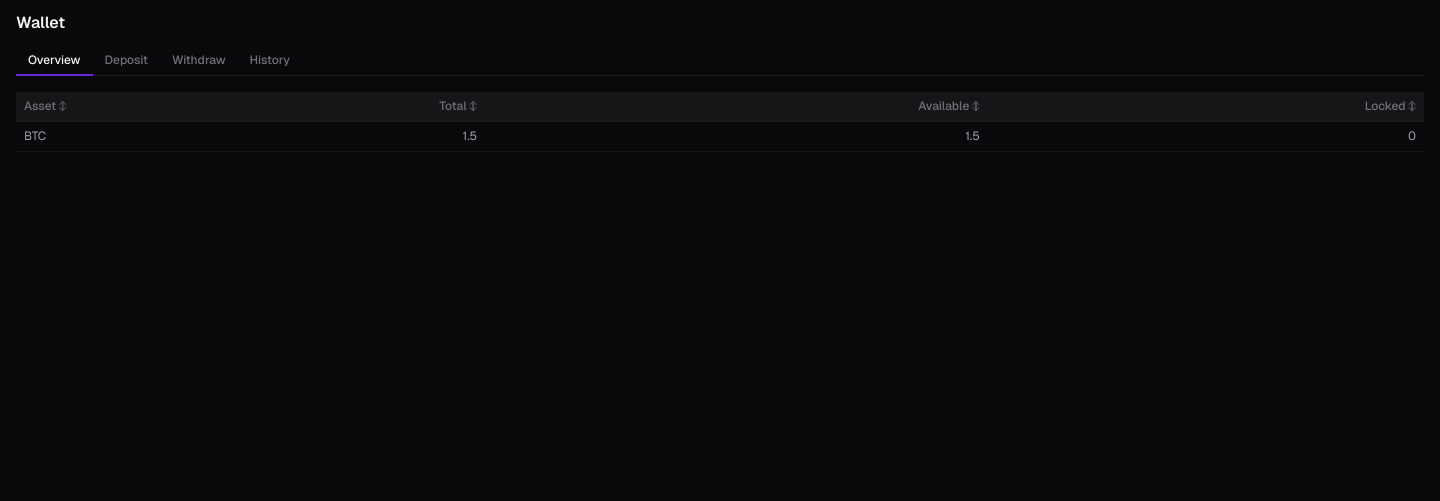
Test: WalletPage › Max button fills the amount field with available balance
This screenshot has width=1440, height=501.
Click the tab "Withdraw" at (199, 61), box [160,46,238,76]
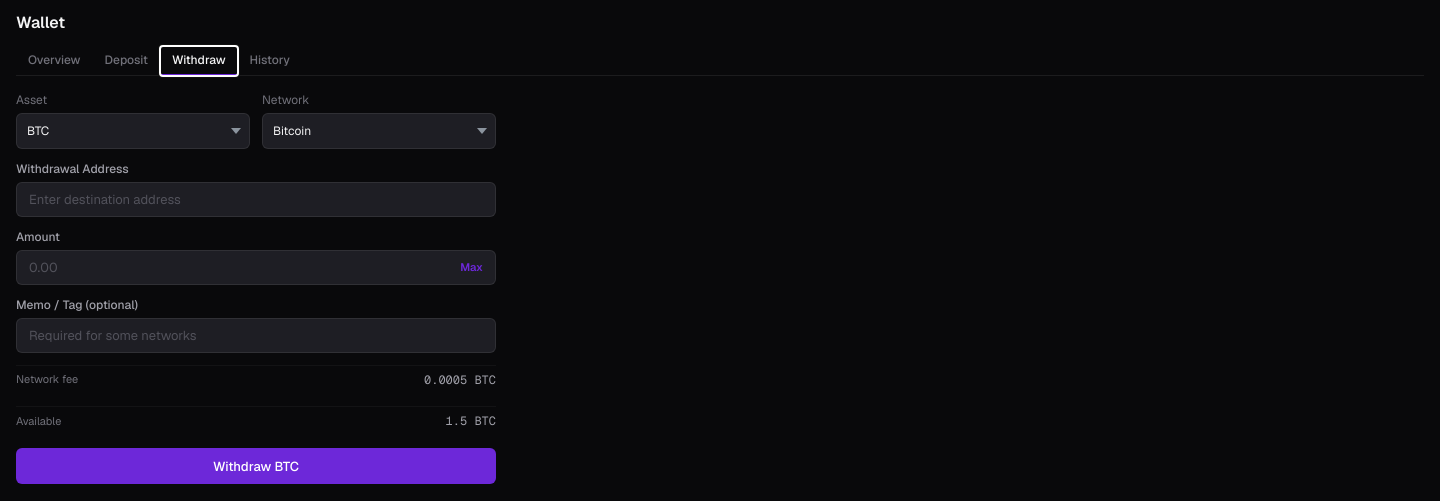
Check: the text "Withdrawal Address" is shown, box [16,161,129,177]
Click the button "Max" at (472, 267), box [456,260,487,274]
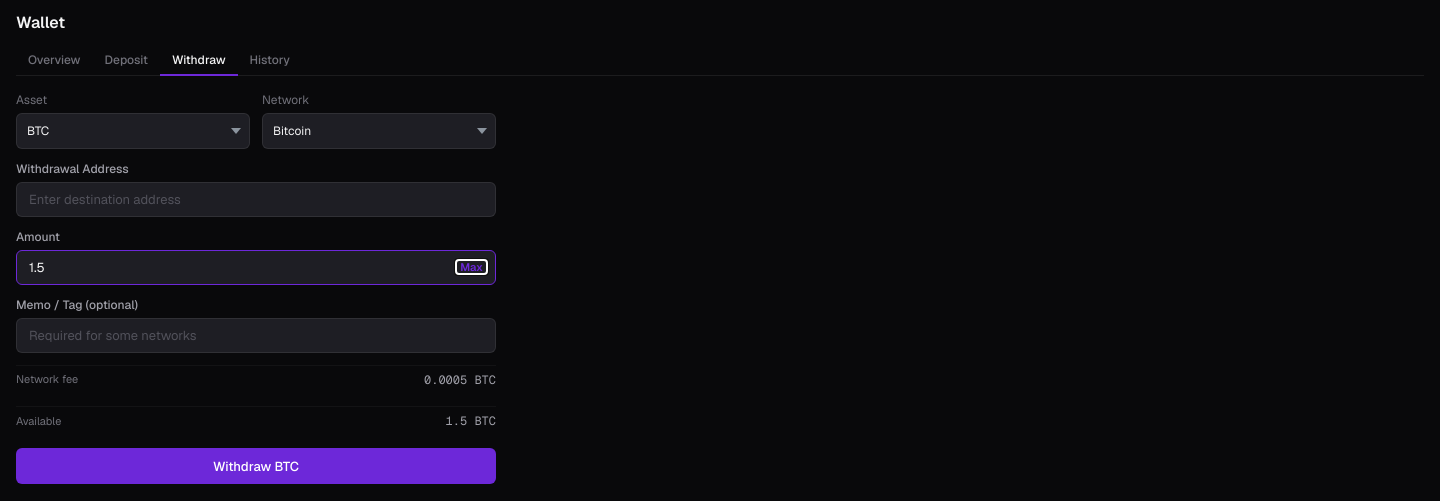
Check: the field with placeholder "0.00" holds "1.5", box [17,251,448,284]
